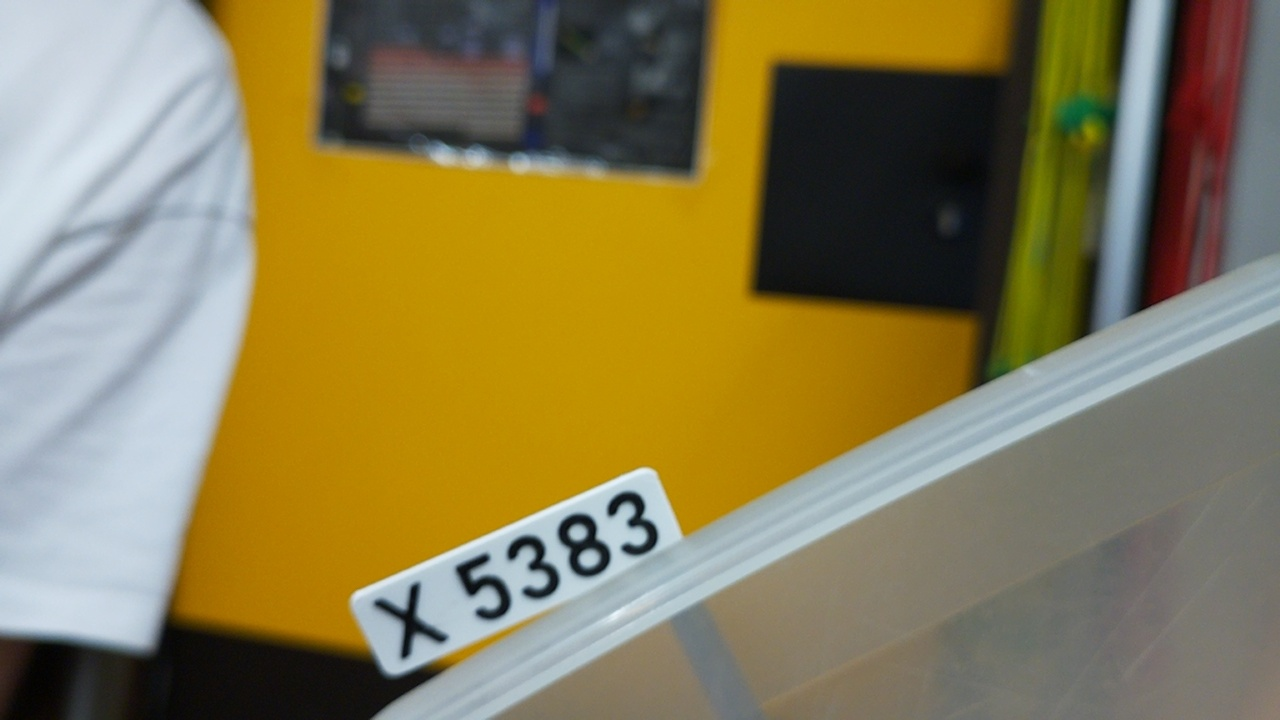license_plate: (343, 463, 697, 681)
